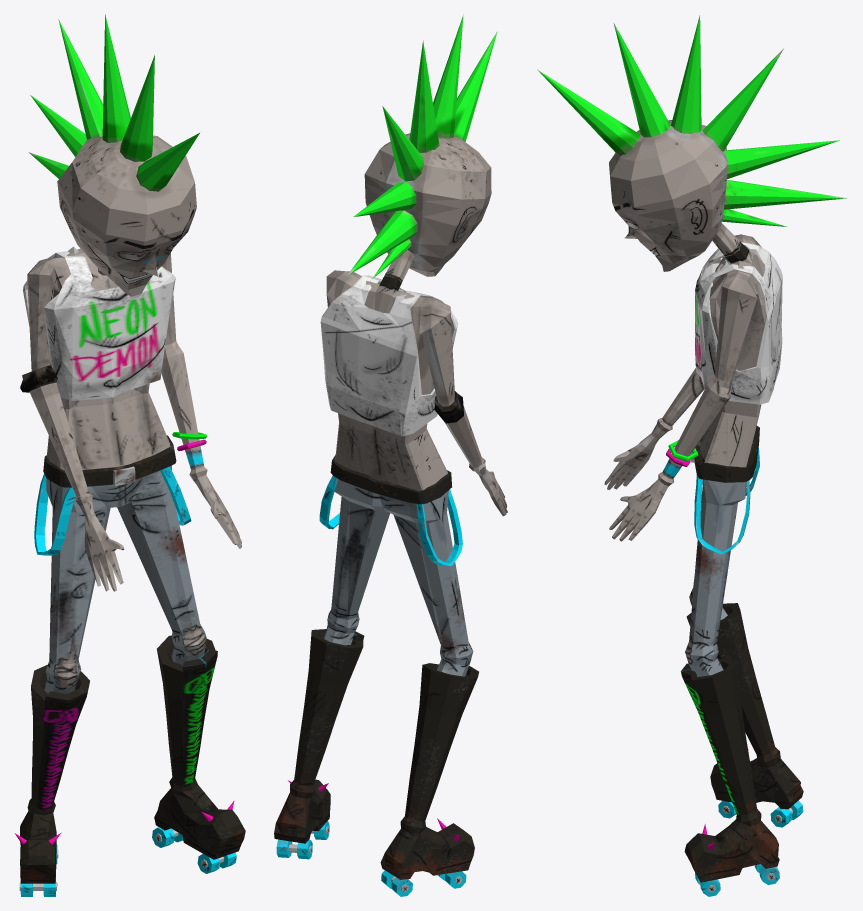
File: punkAnimation_000022.obj
The picture shows the model from 3 angles, left to right: view 1: azimuth 30°, elevation 25°; view 2: azimuth 150°, elevation 25°; view 3: azimuth 270°, elevation 25°; orthographic projection. The views are drawn at different scales.
Visible parts, largest first — view 1: Cube.004_Cube.003; view 2: Cube.004_Cube.003; view 3: Cube.004_Cube.003.
Part boxes in pixels (<box>): Cube.004_Cube.003: <box>14,14,245,896</box>; Cube.004_Cube.003: <box>274,14,507,896</box>; Cube.004_Cube.003: <box>537,15,846,896</box>.
Bounding box in the file's own units: 1.83 × 7.44 × 2.55.
